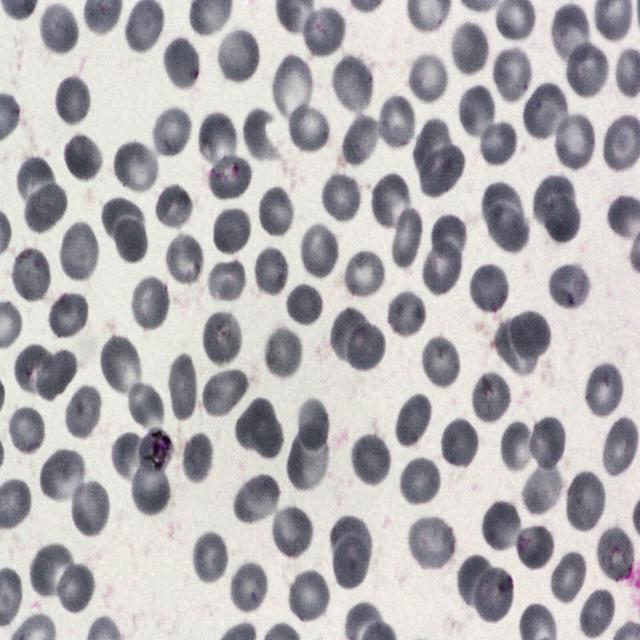red blood cell: (520, 80, 570, 143), (26, 539, 79, 597), (287, 426, 333, 492), (406, 511, 458, 569), (271, 56, 315, 124), (40, 447, 88, 508), (552, 111, 598, 173), (370, 171, 415, 234), (564, 39, 610, 100), (201, 366, 252, 421), (330, 53, 374, 116), (99, 333, 143, 396), (564, 470, 607, 533), (58, 220, 100, 284), (215, 26, 261, 84), (69, 477, 112, 539), (201, 308, 244, 369), (198, 110, 238, 175), (492, 44, 534, 105), (10, 244, 52, 305), (592, 523, 636, 581), (583, 361, 626, 420), (287, 99, 332, 155), (301, 2, 346, 58), (600, 416, 640, 479), (287, 568, 331, 625), (241, 102, 284, 160), (522, 461, 564, 520), (270, 504, 314, 560), (111, 431, 157, 484), (129, 274, 170, 333), (64, 382, 104, 442), (205, 150, 252, 201), (546, 260, 592, 312), (299, 222, 340, 280), (376, 93, 417, 151), (320, 171, 363, 226), (406, 50, 449, 105), (420, 334, 462, 390), (470, 370, 512, 426), (262, 325, 304, 381), (38, 0, 80, 56), (424, 240, 463, 300), (449, 21, 490, 78), (167, 352, 199, 425), (398, 455, 442, 508), (393, 391, 433, 449), (350, 432, 392, 487), (54, 559, 96, 614), (229, 561, 270, 617), (481, 498, 522, 554), (342, 248, 386, 300), (165, 232, 205, 289), (468, 262, 510, 316), (533, 174, 575, 228), (341, 114, 383, 168), (122, 0, 163, 55), (234, 477, 280, 526), (46, 290, 90, 341), (162, 36, 202, 92), (63, 131, 105, 184), (150, 111, 192, 164), (132, 456, 169, 516), (476, 566, 514, 624), (114, 144, 158, 194), (24, 185, 68, 235), (421, 145, 464, 196), (493, 322, 536, 373), (527, 416, 566, 472), (549, 550, 588, 606), (476, 116, 518, 168), (6, 404, 47, 457), (552, 5, 590, 62), (440, 416, 480, 470), (54, 74, 94, 128), (212, 205, 252, 258), (386, 288, 427, 339), (191, 530, 229, 585), (456, 85, 496, 137), (489, 202, 529, 254), (513, 522, 555, 571), (35, 352, 77, 401), (258, 185, 296, 239), (329, 536, 367, 590), (580, 586, 618, 640), (235, 396, 276, 446), (412, 122, 452, 173), (206, 256, 246, 306), (16, 344, 56, 394), (456, 556, 496, 606), (253, 246, 290, 300), (331, 307, 368, 361), (155, 184, 194, 235), (180, 431, 216, 486), (388, 212, 424, 267), (331, 517, 374, 563), (102, 196, 144, 242), (481, 182, 522, 229), (285, 280, 324, 329), (348, 322, 386, 372), (508, 312, 548, 359), (296, 397, 330, 452), (128, 382, 166, 431), (431, 214, 466, 266), (501, 426, 539, 473), (545, 195, 579, 243), (17, 159, 54, 199), (114, 218, 146, 262), (253, 417, 284, 458)
trophozoite: (136, 429, 176, 476)
